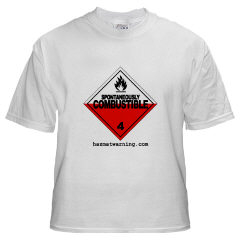Spontaneously combustile: (85, 66, 157, 141)
